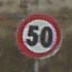limite 50: (15, 10, 64, 59)
